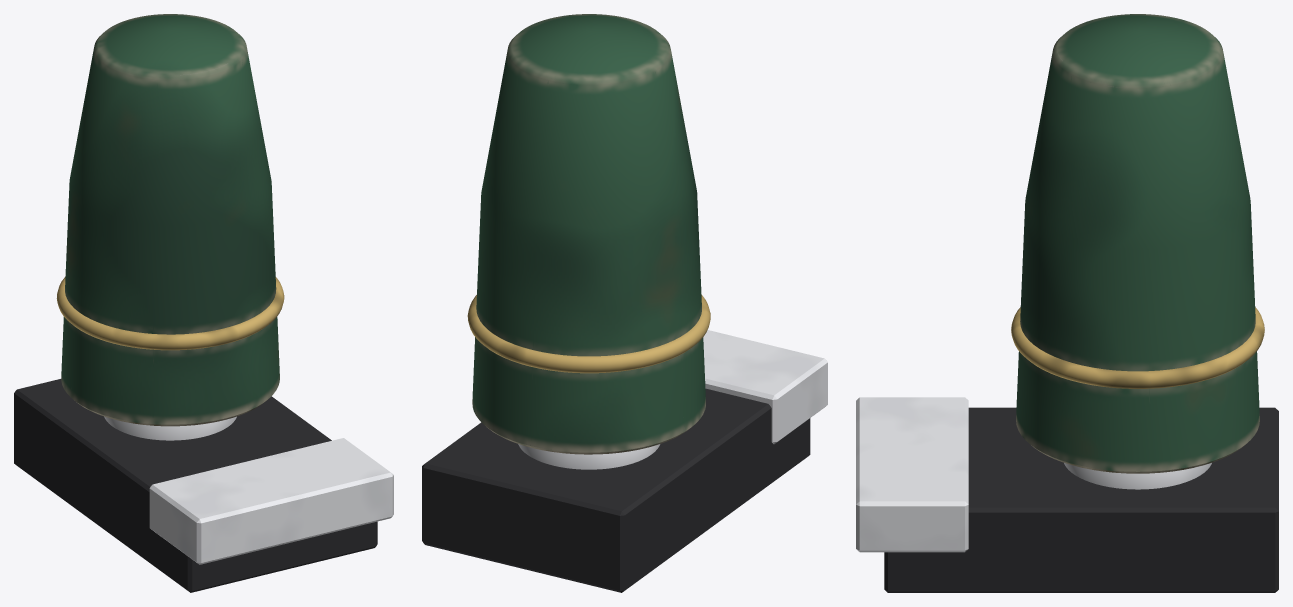
File: sentry_shin.glb
The picture shows the model from 3 angles, left to right: view 1: azimuth 30°, elevation 25°; view 2: azimuth 150°, elevation 25°; view 3: azimuth 270°, elevation 25°; orthographic projection. The views are drawn at different scales.
Parts seen in each view (by area): view 1: sentry_shin; view 2: sentry_shin; view 3: sentry_shin.
Part boxes in pixels (left/top/right/bottom): sentry_shin: left=14, top=14, right=393, bottom=592; sentry_shin: left=422, top=14, right=827, bottom=592; sentry_shin: left=856, top=14, right=1278, bottom=592.
Size of the model in its own units: 0.27 by 0.6 by 0.45.
Materials: 4 (3 with a texture image).
